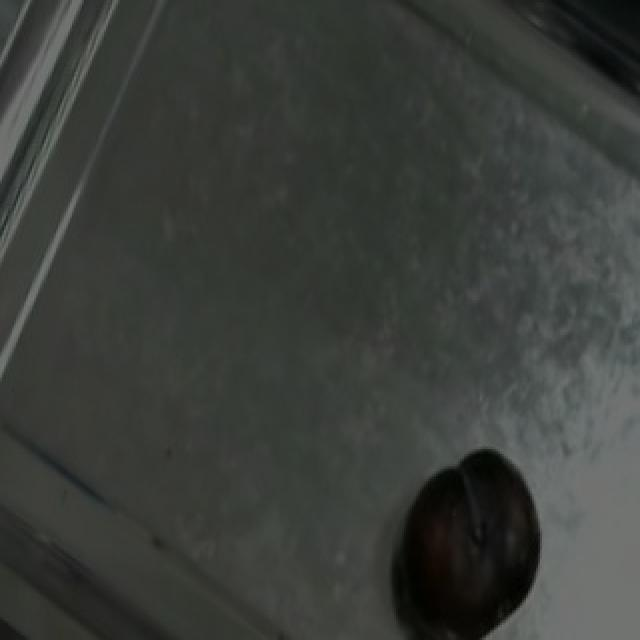Fruit: (398, 436, 550, 640)
